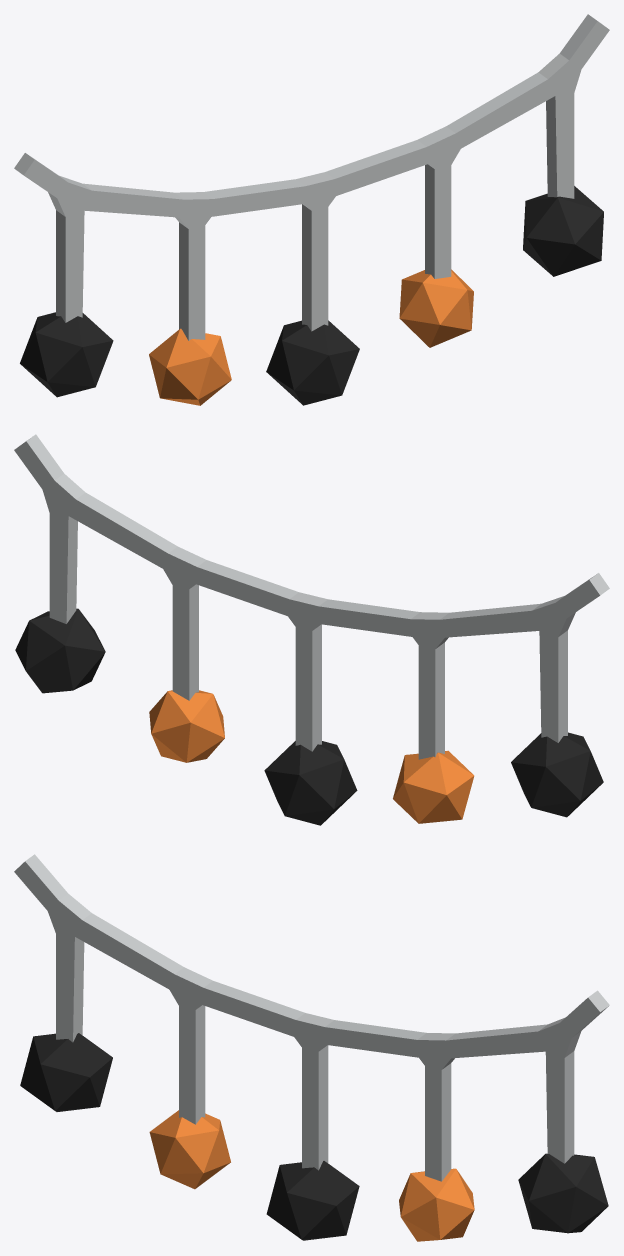
The model's file is WF_LP_HT_Props_Light.002.fbx.
3 views of the same model, one above another, from view 1: azimuth 30°, elevation 25°; view 2: azimuth 150°, elevation 25°; view 3: azimuth 330°, elevation 25° (orthographic).
Visible parts, largest first — view 1: WF_LP_HT_Props_Light.002; view 2: WF_LP_HT_Props_Light.002; view 3: WF_LP_HT_Props_Light.002.
Boxes of the visible parts, bbox=[...] form: WF_LP_HT_Props_Light.002: bbox=[14, 14, 609, 405]; WF_LP_HT_Props_Light.002: bbox=[14, 434, 609, 825]; WF_LP_HT_Props_Light.002: bbox=[14, 854, 609, 1241].
Size of the model in its own units: 2.94 by 1.52 by 0.4025.
